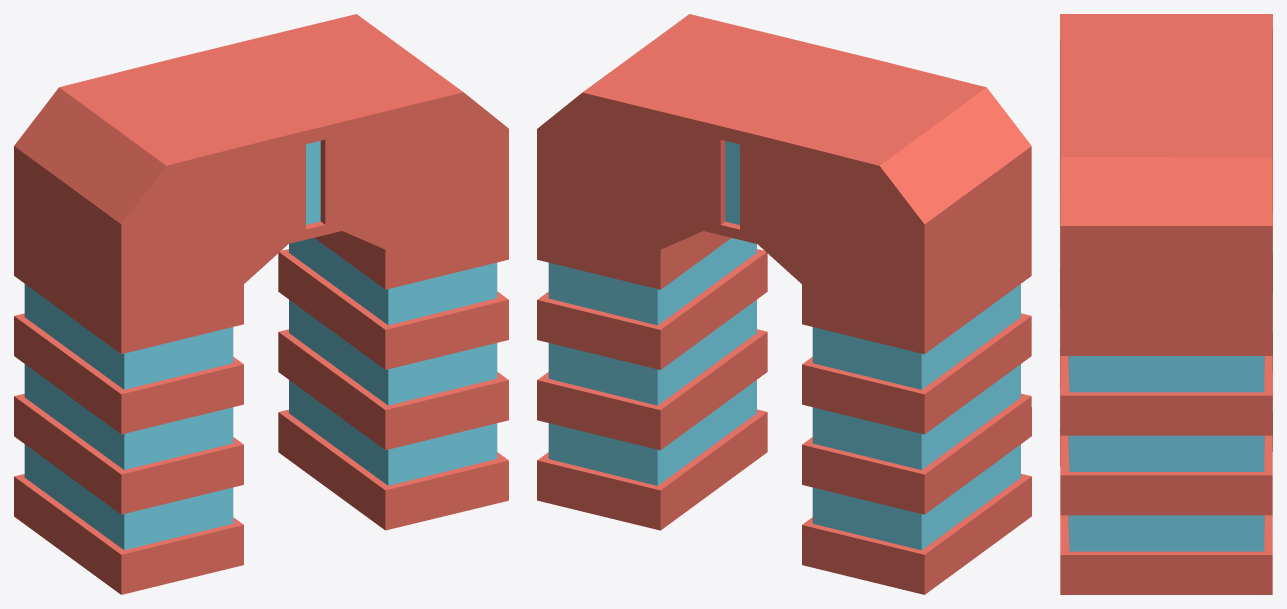
Rendered from Skyscraper_01.fbx.
3 renders of one model, left to right at view 1: azimuth 30°, elevation 25°; view 2: azimuth 150°, elevation 25°; view 3: azimuth 270°, elevation 25°, orthographic.
Visible parts, largest first — view 1: Building_14; view 2: Building_14; view 3: Building_14.
Boxes of the visible parts, x1,y1,x2,y2 form: Building_14: (14,14,508,594); Building_14: (537,14,1031,594); Building_14: (1060,14,1272,594).
Bounding box in the file's own units: 9703 × 10030 × 4648.
